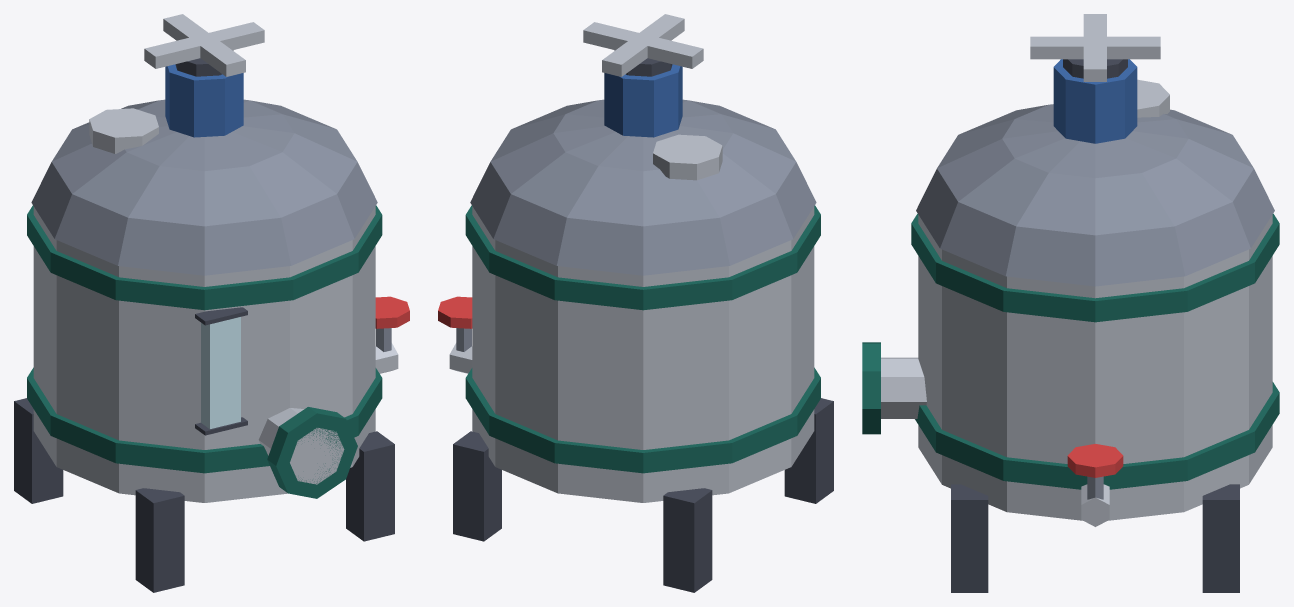
Rendered from mixing-vat.glb.
3 views of the same model, side by side, from view 1: azimuth 30°, elevation 25°; view 2: azimuth 150°, elevation 25°; view 3: azimuth 270°, elevation 25° (orthographic). The views are drawn at different scales.
Parts seen in each view (by area): view 1: mixing-vat, spin-up; view 2: mixing-vat, spin-up; view 3: mixing-vat, spin-up.
Part boxes in pixels (left/top/right/bottom): mixing-vat: left=14, top=50, right=409, bottom=592; spin-up: left=144, top=14, right=264, bottom=76; mixing-vat: left=438, top=50, right=833, bottom=592; spin-up: left=583, top=14, right=703, bottom=76; mixing-vat: left=862, top=59, right=1279, bottom=592; spin-up: left=1030, top=14, right=1160, bottom=81.
Bounding box in the file's own units: 0.915 × 1.16 × 0.895.
2 materials, 2 textured.
